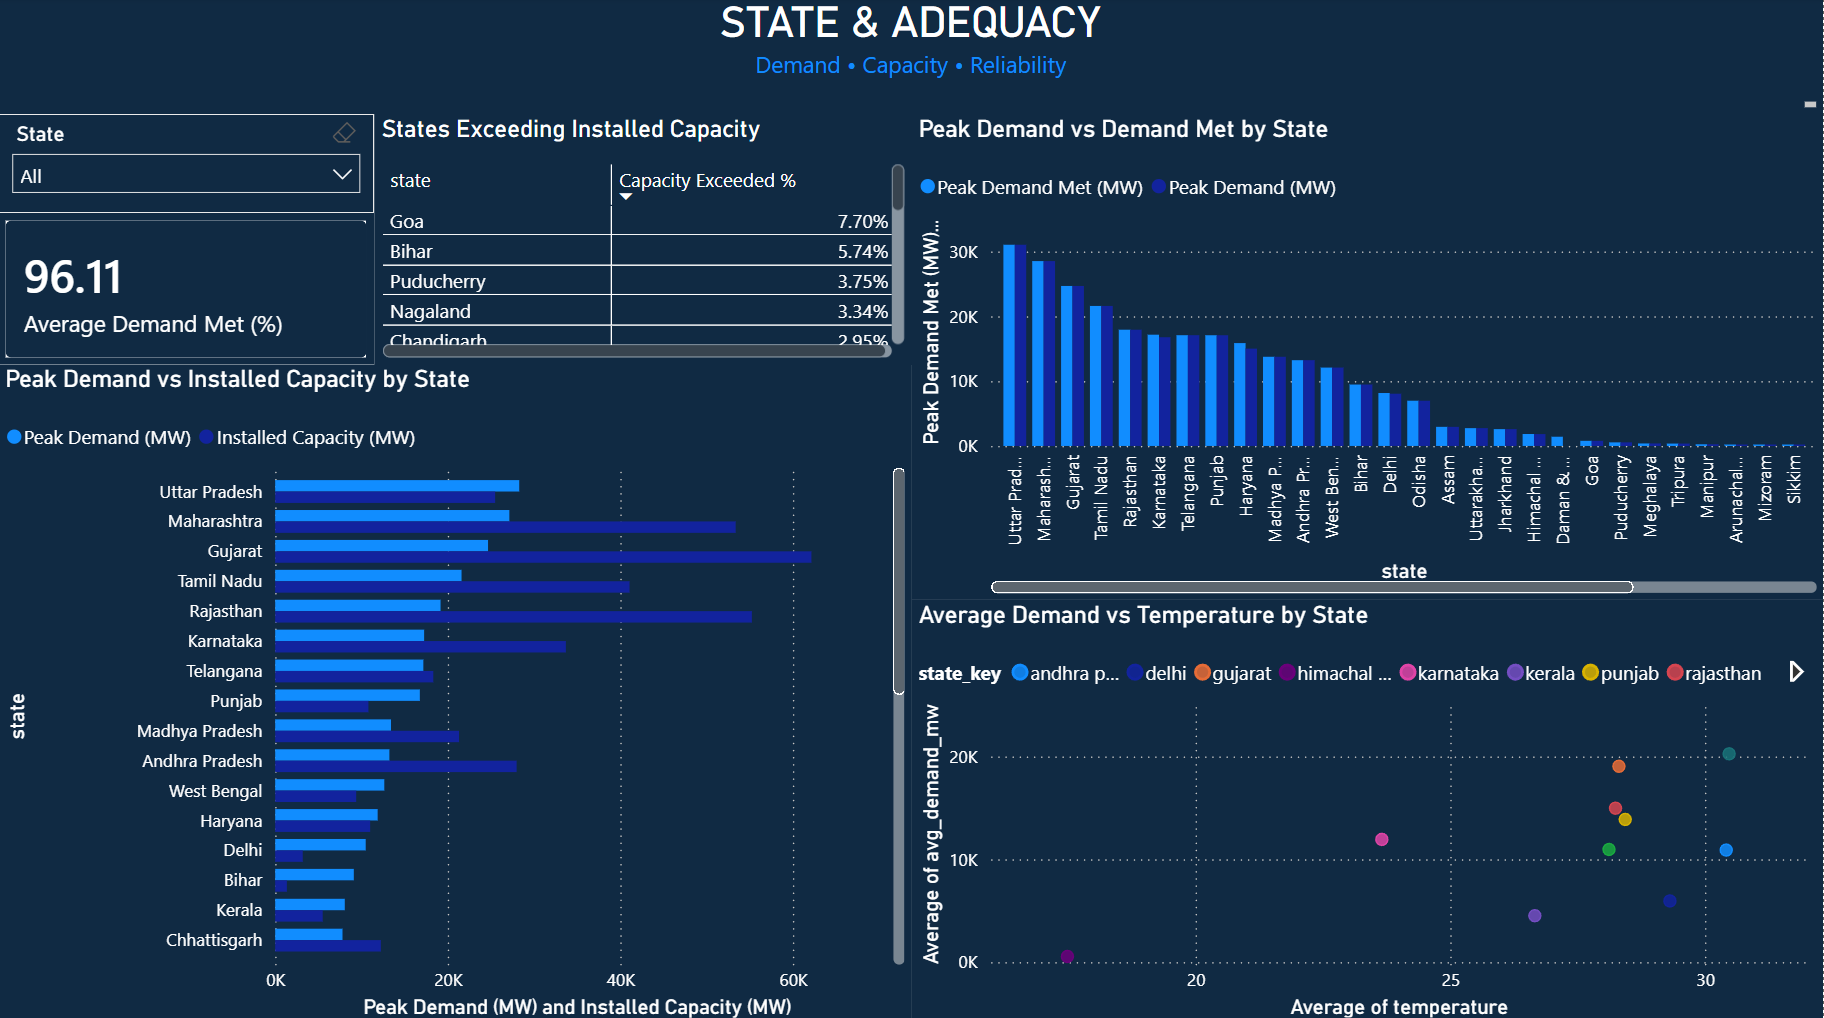

What the dashboard file says about the page in this screenshot:
{"tool":"powerbi","page":{"name":"State & Adequacy","canvas":[1280,720],"ordinal":1},"visuals":[{"type":"scatterChart","title":"Average Demand vs Temperature by State","fields":{"X":["Avg(state_weather_demand.temperature)"],"Y":["Avg(state_weather_demand.avg_demand_mw)"],"Series":["state_weather_demand.state_key"]},"box":[640.4,422.8,639.4,297.6],"z":0},{"type":"clusteredBarChart","title":"Peak Demand vs Installed Capacity by State","fields":{"Category":["state_demand.state"],"Y":["Max(state_demand.peak_demand_mw)","Max(state_demand.installed_in_state_mw)"]},"box":[0,257.6,640.4,462.7],"z":1000},{"type":"clusteredColumnChart","title":"Peak Demand vs Demand Met by State","fields":{"Y":["Max(state_adequacy.peak_demand_met_mw)","Max(state_adequacy.peak_demand_mw)"],"Category":["state_adequacy.state"]},"box":[640.4,82,639.4,340.7],"z":2000},{"type":"slicer","fields":{"Values":["DimState.State"]},"box":[0,82,264,69.4],"z":3000},{"type":"cardVisual","fields":{"Data":["Avg(state_adequacy.demand_met_pct)"]},"box":[0,151.4,264,106.2],"z":4000},{"type":"textbox","title":"STATE & ADEQUACY","box":[0,0,1279.8,82],"z":5000},{"type":"tableEx","title":"States Exceeding Installed Capacity","fields":{"Values":["state_demand.state","state_demand.Capacity Exceeded %"]},"box":[264,82,376.5,175.6],"z":6000}]}

Visuals, with their boxes in screenshot pixels (x1, y1, x2, y2), scaled from the page's 1280x720 canvas onto the 1824x1018 screenshot:
"Average Demand vs Temperature by State" scatterChart: [x1=913, y1=598, x2=1823, y2=1017]
"Peak Demand vs Installed Capacity by State" clusteredBarChart: [x1=0, y1=364, x2=913, y2=1017]
"Peak Demand vs Demand Met by State" clusteredColumnChart: [x1=913, y1=116, x2=1823, y2=598]
slicer - DimState.State: [x1=0, y1=116, x2=376, y2=214]
cardVisual - Avg(state_adequacy.demand_met_pct): [x1=0, y1=214, x2=376, y2=364]
"STATE & ADEQUACY" textbox: [x1=0, y1=0, x2=1823, y2=116]
"States Exceeding Installed Capacity" tableEx: [x1=376, y1=116, x2=913, y2=364]
